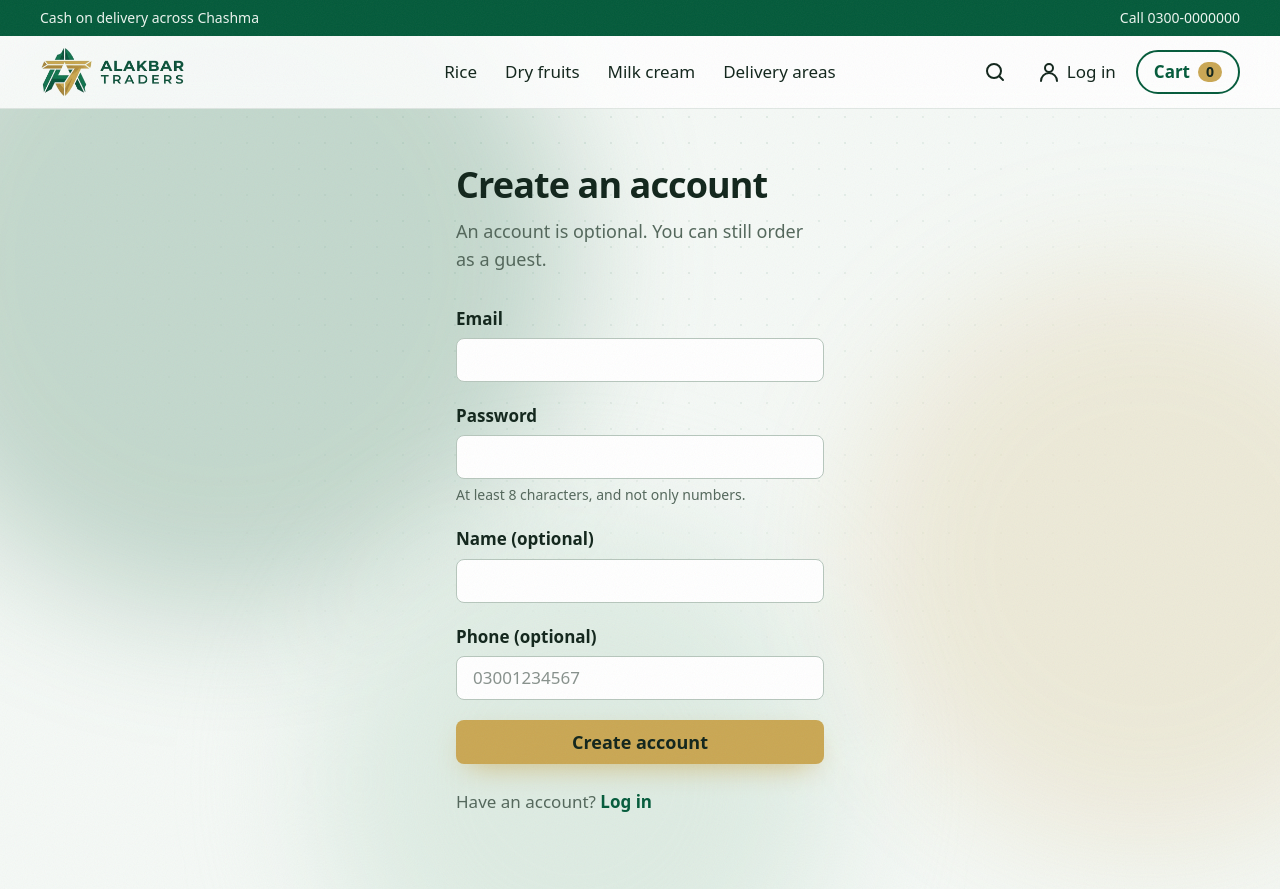
Test: signup page › marks the fields Django refused
The image size is (1280, 889).
Type "ali@example.com" into the field labelled "Email" at (640, 360), box [456,338,824,382]
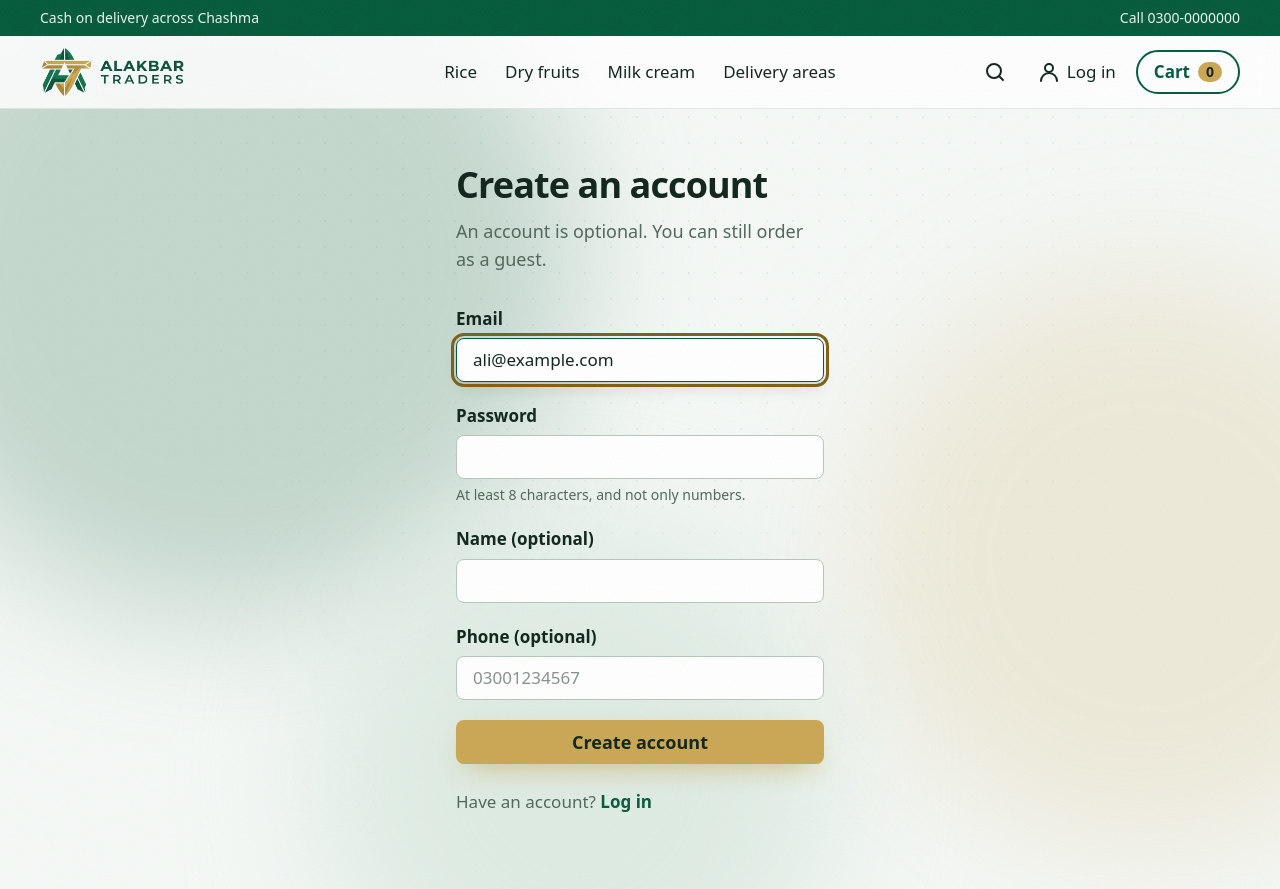
Type "Basmati-Sella-2026" into the password field labelled "Password" at (640, 457), box [456,435,824,479]
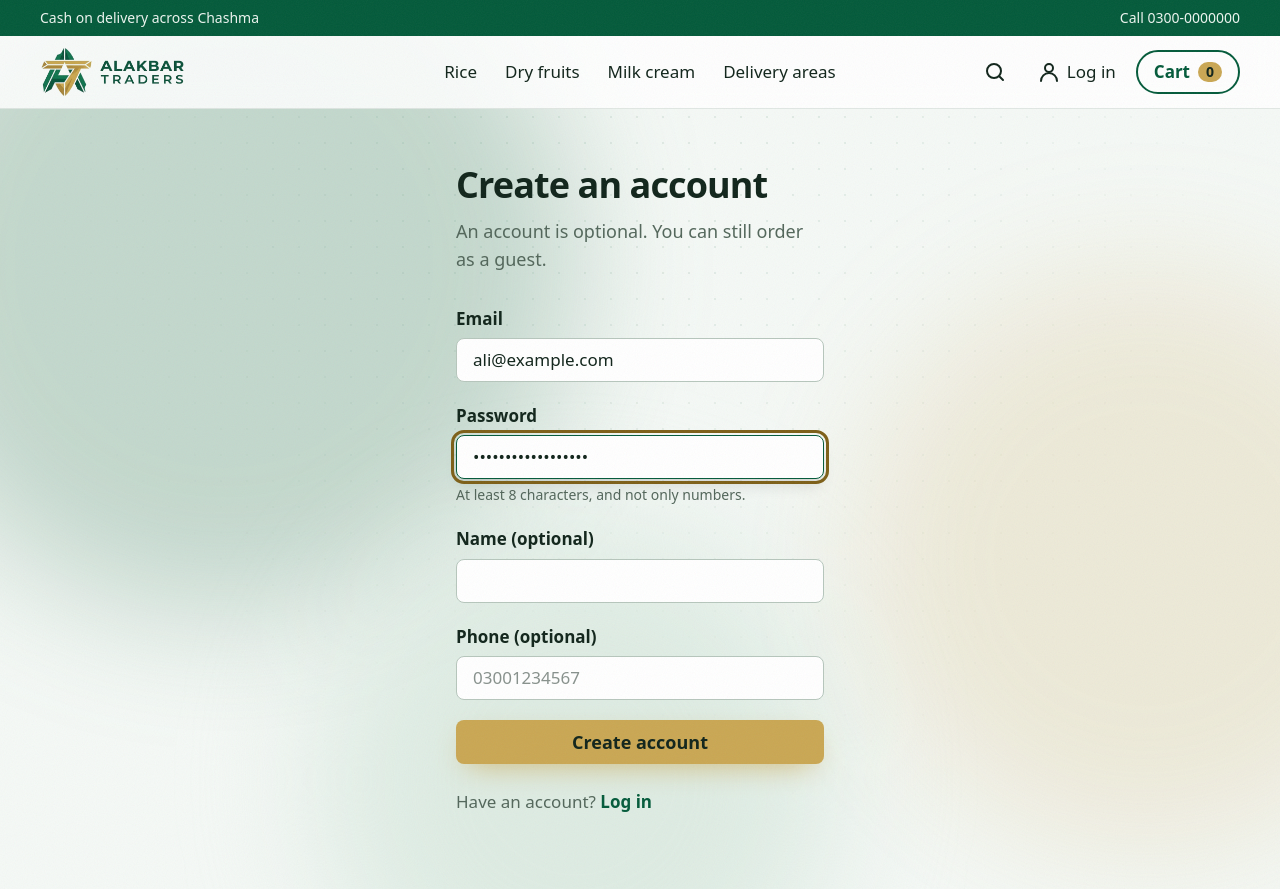
Click the button "Create account" at (640, 742), box [456,720,824,764]
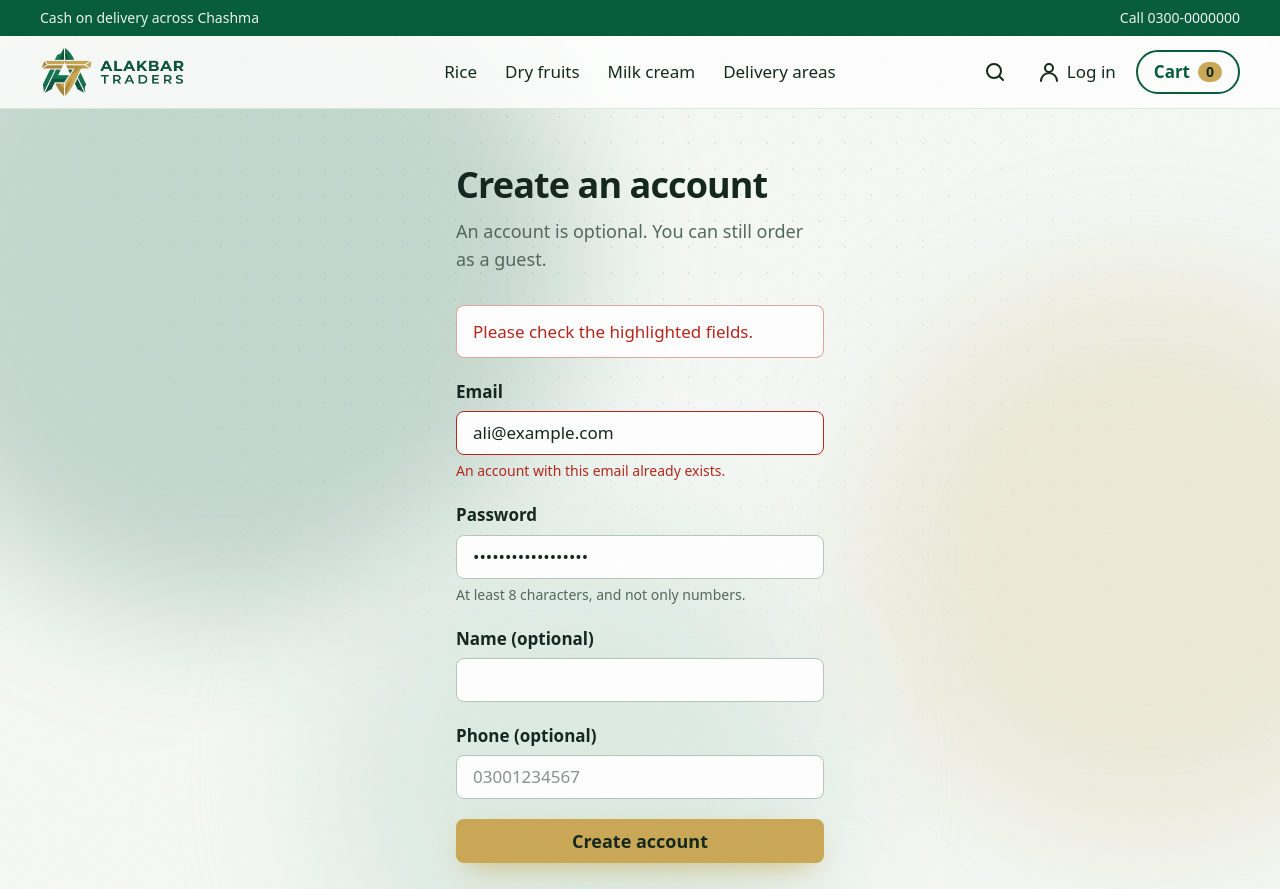
Expected: the list item "An account with this email already exists." is shown, [456,461,725,480]
